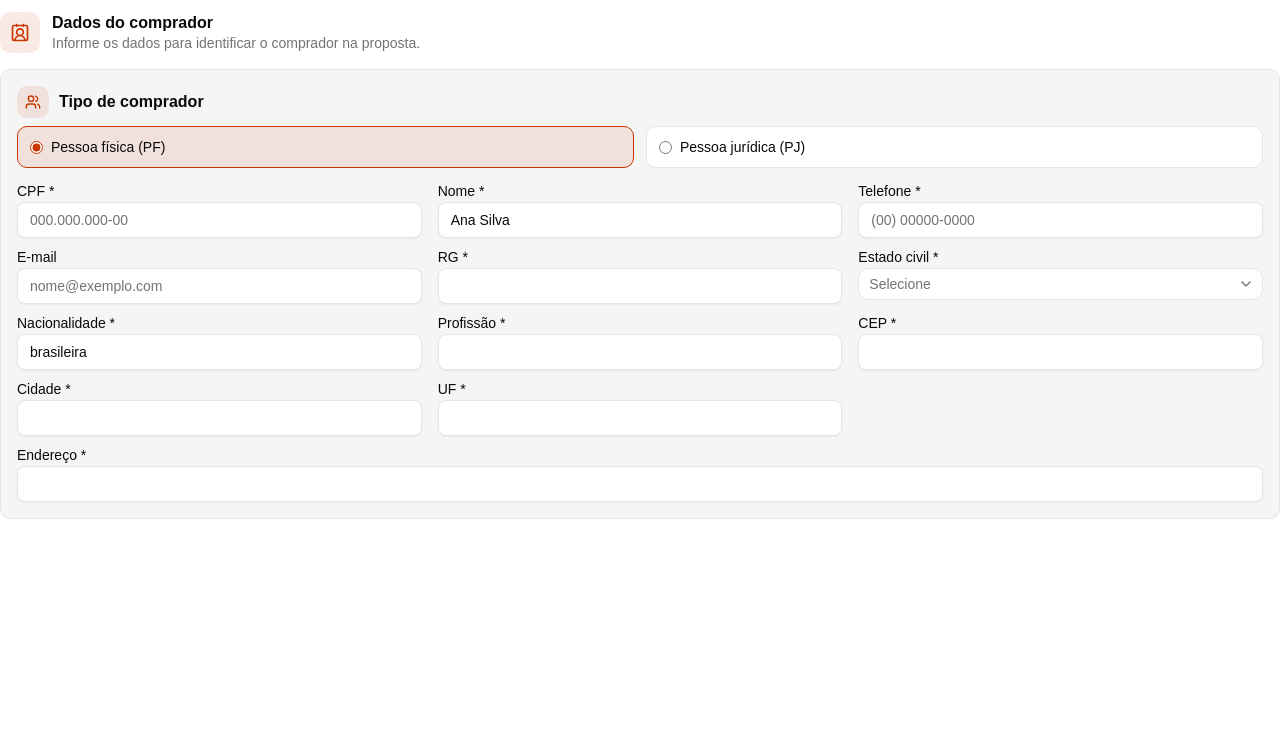
Test: ProposalPartyFields › fills the buyer when the document already exists
The width and height of the screenshot is (1280, 732).
Type "52998224725" into the field labelled "CPF" at x=219, y=220, box [17,202,422,238]
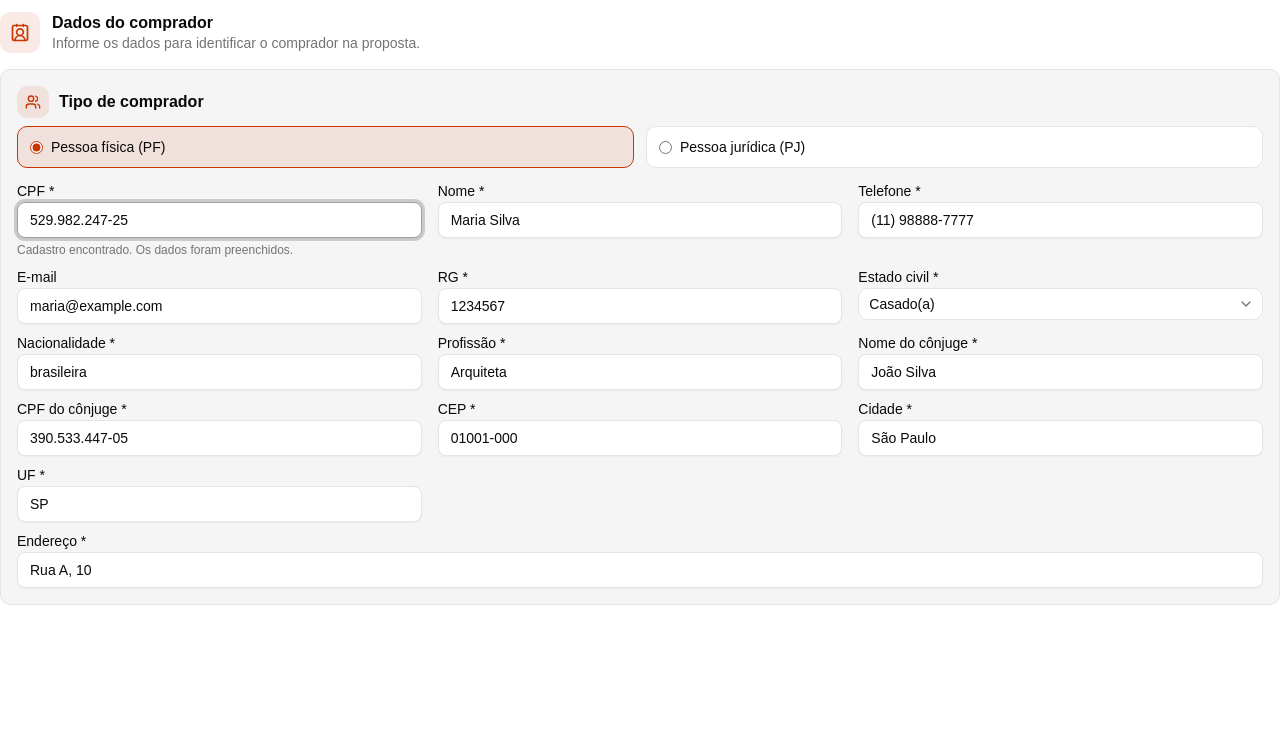
Now the field showing "Maria Silva" is shown, box [438,202,842,238]
Now the field labelled "Telefone" holds "(11) 98888-7777", box [858,202,1263,238]
Now the field labelled "E-mail" holds "maria@example.com", box [17,288,422,324]
